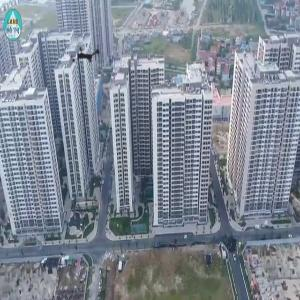drone: (59, 30, 112, 83)
